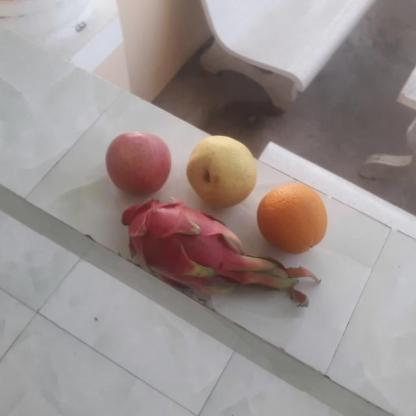apple: (103, 132, 170, 196)
orange: (255, 184, 329, 252)
pear: (183, 136, 260, 207)
pitaya: (118, 197, 243, 283)
